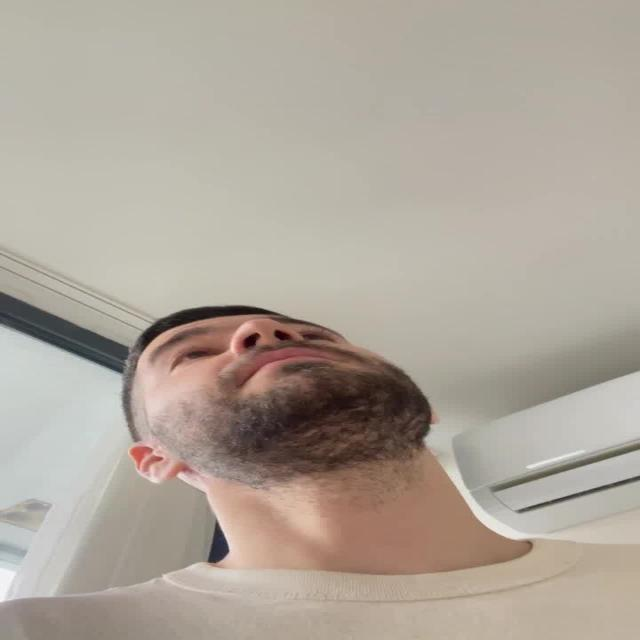earlobe: (150, 460, 182, 475)
eye: (166, 346, 219, 364), (296, 327, 343, 343)
nose: (232, 343, 312, 352)
wholeear: (128, 441, 182, 485)
